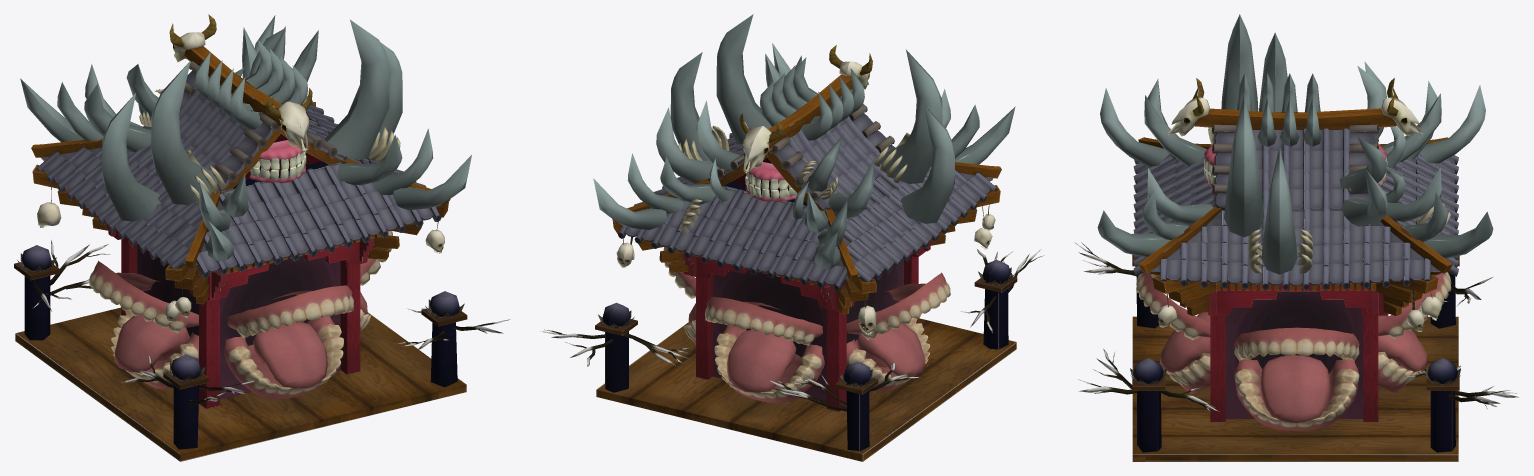
The model's file is shrine.glb.
The picture shows the model from 3 angles, left to right: view 1: azimuth 30°, elevation 25°; view 2: azimuth 150°, elevation 25°; view 3: azimuth 270°, elevation 25°; orthographic projection. The views are drawn at different scales.
Parts seen in each view (by area): view 1: Malevolent_S.002.000_0; view 2: Malevolent_S.002.000_0; view 3: Malevolent_S.002.000_0.
Boxes of the visible parts, bbox=[...] form: Malevolent_S.002.000_0: bbox=[14, 14, 510, 461]; Malevolent_S.002.000_0: bbox=[540, 14, 1044, 461]; Malevolent_S.002.000_0: bbox=[1074, 14, 1518, 461].
Bounding box in the file's own units: 9.94 × 9.34 × 11.07.
9 materials, 9 textured.
